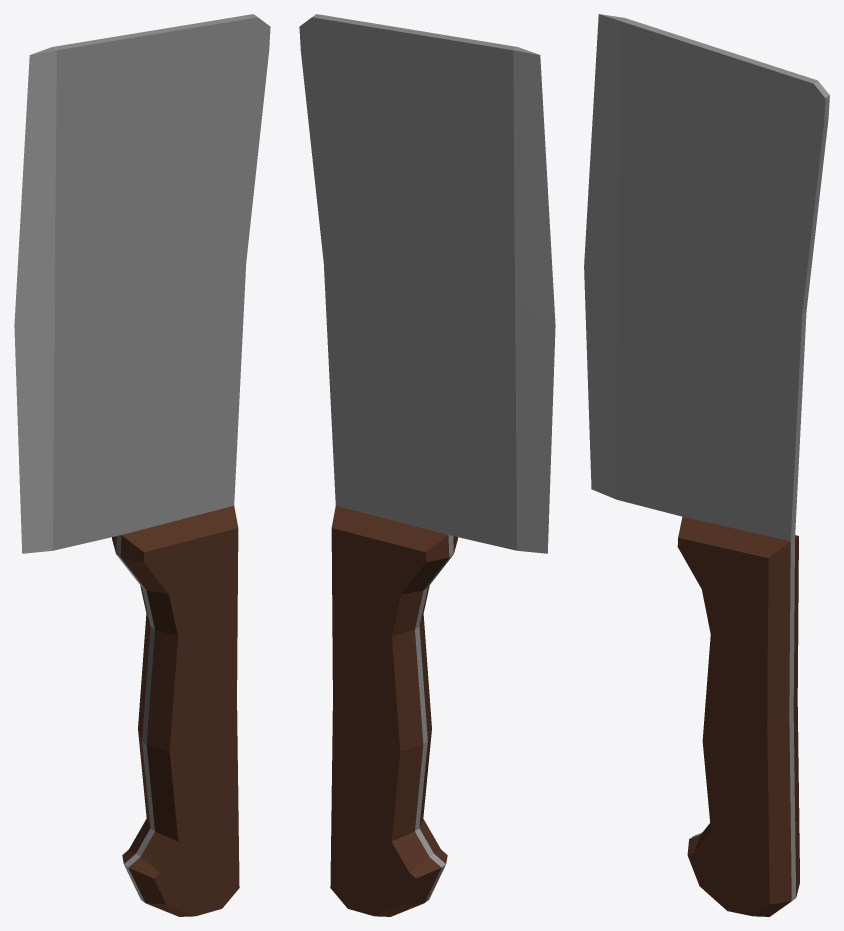
Rendered from Chopper_vc.fbx.
The picture shows the model from 3 angles, left to right: view 1: azimuth 30°, elevation 25°; view 2: azimuth 150°, elevation 25°; view 3: azimuth 330°, elevation 25°; orthographic projection. The views are drawn at different scales.
Parts seen in each view (by area): view 1: Chopper_vc; view 2: Chopper_vc; view 3: Chopper_vc.
Part boxes in pixels (x1=…): Chopper_vc: x1=14, y1=14, x2=270, y2=916; Chopper_vc: x1=299, y1=14, x2=555, y2=916; Chopper_vc: x1=584, y1=14, x2=829, y2=916.
Bounding box in the file's own units: 10.21 × 34.45 × 2.21.
